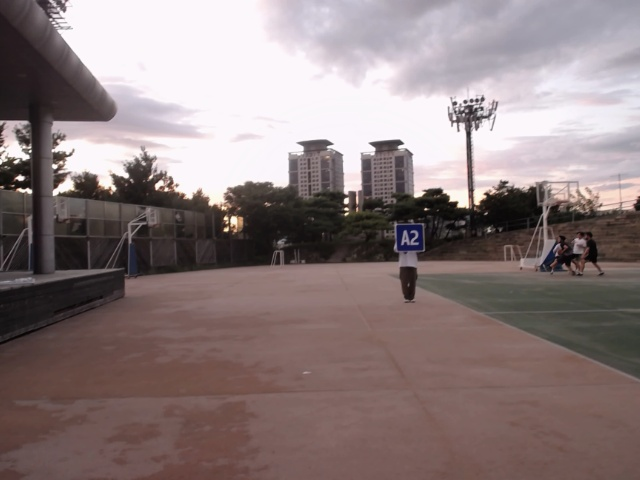delivery_a2: (396, 224, 425, 252)
